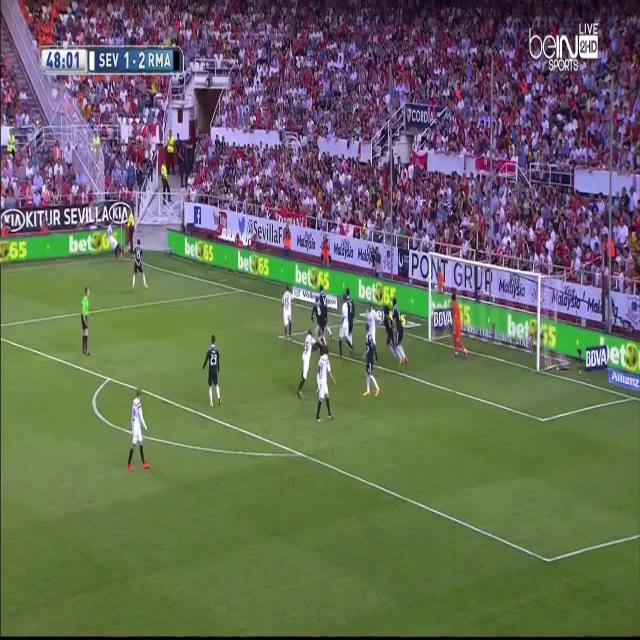Goalkeeper: (447, 292, 471, 361)
Player: (126, 388, 151, 474), (313, 343, 336, 425), (201, 332, 224, 411), (294, 328, 317, 402), (390, 296, 411, 372), (360, 325, 379, 406), (335, 294, 350, 364), (130, 235, 148, 292), (380, 305, 398, 361), (280, 285, 296, 347), (344, 288, 356, 352), (309, 292, 326, 336), (106, 222, 123, 263), (368, 302, 381, 351)
Referee: (78, 287, 92, 357)
